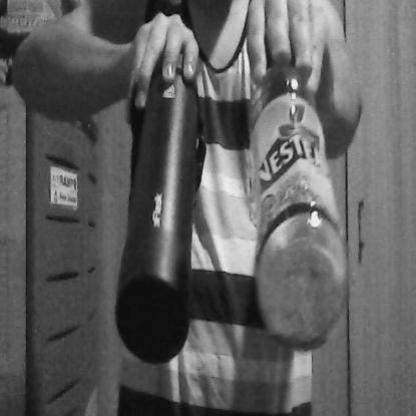Plastic Bottle: (237, 17, 358, 367)
